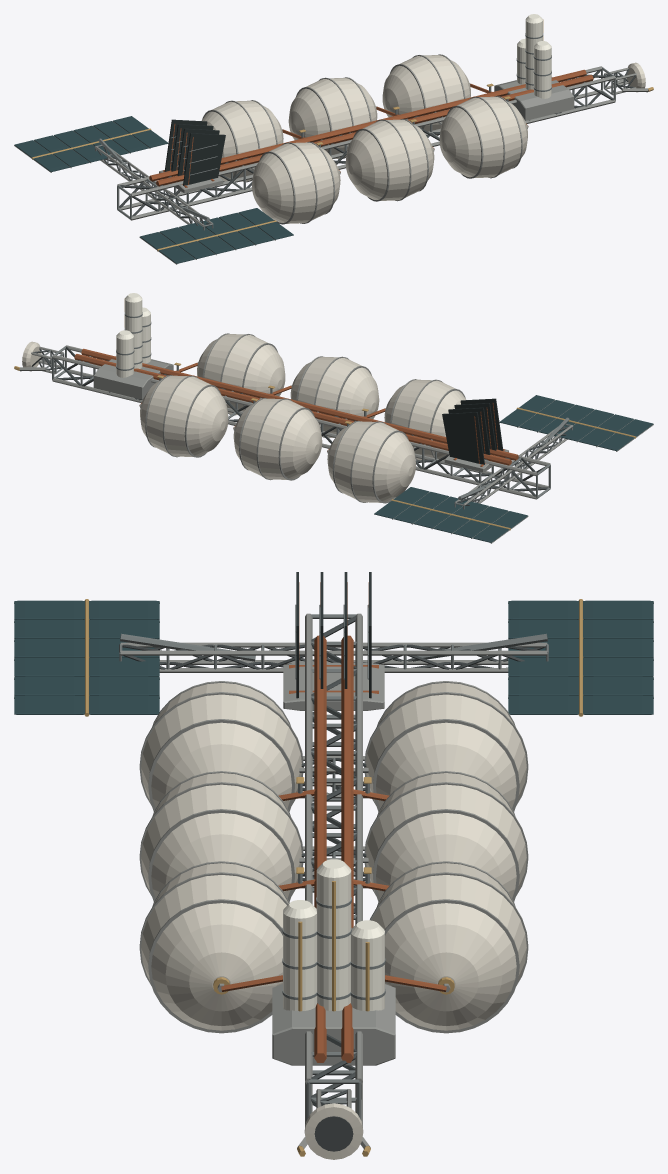
The model's file is foundry-alpha-v001.glb.
3 renders of one model, top to bottom at view 1: azimuth 30°, elevation 25°; view 2: azimuth 150°, elevation 25°; view 3: azimuth 270°, elevation 25°, orthographic. The views are drawn at different scales.
Parts seen in each view (by area): view 1: foundry-alpha-fluid-transfer-spine, foundry-alpha-water-vessel-2-starboard, foundry-alpha-water-vessel-3-starboard, foundry-alpha-water-vessel-1-starboard, foundry-alpha-solar-starboard, foundry-alpha-solar-port, foundry-alpha-water-vessel-3-port, foundry-alpha-water-vessel-2-port, foundry-alpha-separation-plant, foundry-alpha-thermal-collector, foundry-alpha-water-vessel-1-port, foundry-alpha-photovoltaic-yoke (+2 smaller); view 2: foundry-alpha-fluid-transfer-spine, foundry-alpha-water-vessel-2-port, foundry-alpha-water-vessel-3-port, foundry-alpha-water-vessel-1-port, foundry-alpha-solar-port, foundry-alpha-solar-starboard, foundry-alpha-water-vessel-2-starboard, foundry-alpha-water-vessel-3-starboard, foundry-alpha-separation-plant, foundry-alpha-thermal-collector, foundry-alpha-water-vessel-1-starboard, foundry-alpha-photovoltaic-yoke (+2 smaller); view 3: foundry-alpha-water-vessel-3-port, foundry-alpha-water-vessel-3-starboard, foundry-alpha-fluid-transfer-spine, foundry-alpha-separation-plant, foundry-alpha-solar-port, foundry-alpha-solar-starboard, foundry-alpha-water-vessel-2-port, foundry-alpha-water-vessel-2-starboard, foundry-alpha-water-vessel-1-port, foundry-alpha-water-vessel-1-starboard, foundry-alpha-photovoltaic-yoke, foundry-alpha-thermal-collector (+2 smaller).
Part boxes in pixels (box(x1,y1,x2,y2)): foundry-alpha-fluid-transfer-spine: box(117, 66, 615, 220); foundry-alpha-water-vessel-2-starboard: box(345, 119, 434, 201); foundry-alpha-water-vessel-3-starboard: box(439, 96, 527, 178); foundry-alpha-water-vessel-1-starboard: box(252, 142, 340, 224); foundry-alpha-solar-starboard: box(139, 208, 293, 264); foundry-alpha-solar-port: box(14, 116, 168, 172); foundry-alpha-water-vessel-3-port: box(382, 54, 470, 135); foundry-alpha-water-vessel-2-port: box(288, 77, 377, 158); foundry-alpha-separation-plant: box(494, 14, 574, 120); foundry-alpha-thermal-collector: box(159, 119, 225, 193); foundry-alpha-water-vessel-1-port: box(201, 100, 283, 182); foundry-alpha-photovoltaic-yoke: box(95, 138, 213, 230); foundry-alpha-fluid-transfer-spine: box(52, 345, 550, 499); foundry-alpha-water-vessel-2-port: box(233, 398, 322, 480); foundry-alpha-water-vessel-3-port: box(140, 375, 228, 457); foundry-alpha-water-vessel-1-port: box(327, 421, 415, 503); foundry-alpha-solar-port: box(374, 487, 528, 543); foundry-alpha-solar-starboard: box(499, 395, 653, 451); foundry-alpha-water-vessel-2-starboard: box(290, 356, 379, 438); foundry-alpha-water-vessel-3-starboard: box(197, 333, 285, 415); foundry-alpha-separation-plant: box(93, 293, 173, 399); foundry-alpha-thermal-collector: box(442, 398, 508, 472); foundry-alpha-water-vessel-1-starboard: box(384, 379, 466, 460); foundry-alpha-photovoltaic-yoke: box(454, 417, 572, 509); foundry-alpha-water-vessel-3-port: box(370, 861, 528, 1033); foundry-alpha-water-vessel-3-starboard: box(139, 861, 289, 1033); foundry-alpha-fluid-transfer-spine: box(299, 613, 368, 1127); foundry-alpha-separation-plant: box(272, 859, 395, 1065); foundry-alpha-solar-port: box(508, 599, 653, 716); foundry-alpha-solar-starboard: box(14, 599, 159, 716); foundry-alpha-water-vessel-2-port: box(364, 771, 528, 901); foundry-alpha-water-vessel-2-starboard: box(139, 771, 303, 901); foundry-alpha-water-vessel-1-port: box(364, 681, 528, 811); foundry-alpha-water-vessel-1-starboard: box(139, 681, 303, 811); foundry-alpha-photovoltaic-yoke: box(119, 633, 548, 672); foundry-alpha-thermal-collector: box(283, 572, 384, 710).
Size of the model in its own units: 669 by 138 by 342.
1 material, 1 textured.
